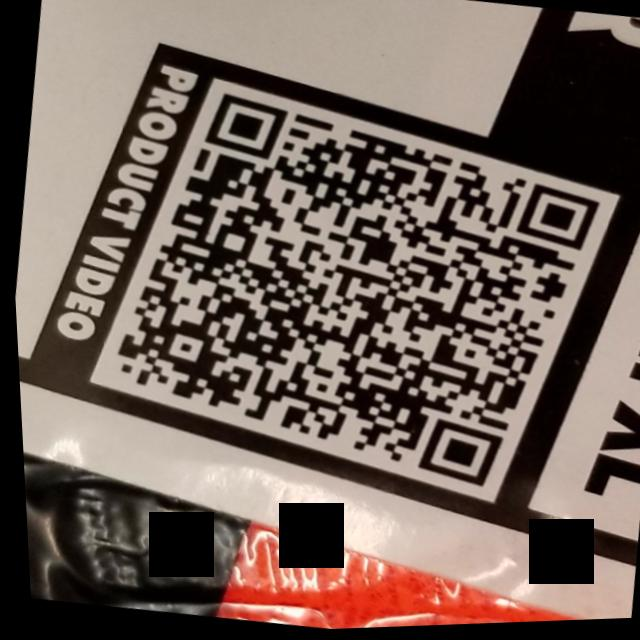QR_CODE: (72, 59, 631, 531)
